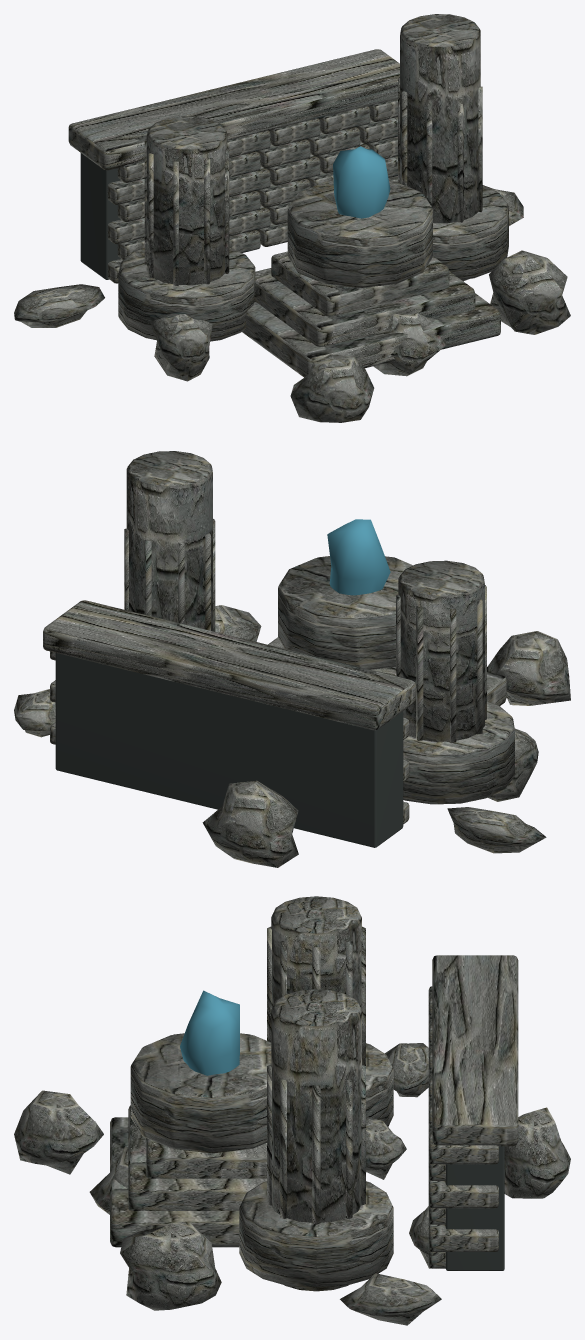
File: env-site-ruins.glb
3 renders of one model, top to bottom at view 1: azimuth 30°, elevation 25°; view 2: azimuth 150°, elevation 25°; view 3: azimuth 270°, elevation 25°, orthographic. The views are drawn at different scales.
Visible parts, largest first — view 1: site ruins · authored textured miniature; view 2: site ruins · authored textured miniature; view 3: site ruins · authored textured miniature.
Part boxes in pixels (x1,y1,x2,y2): site ruins · authored textured miniature: (14, 14, 570, 422); site ruins · authored textured miniature: (14, 451, 570, 867); site ruins · authored textured miniature: (14, 896, 570, 1325).
Bounding box in the file's own units: 1.41 × 0.7066 × 1.23.
3 materials, 1 textured.
